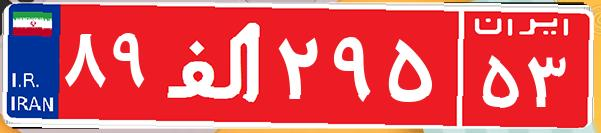2: (273, 28, 330, 110)
3: (525, 38, 570, 115)
5: (385, 28, 445, 110), (475, 38, 525, 113)
8: (57, 26, 110, 107)
9: (330, 28, 385, 110), (110, 28, 158, 105)
الف: (158, 15, 273, 115)
